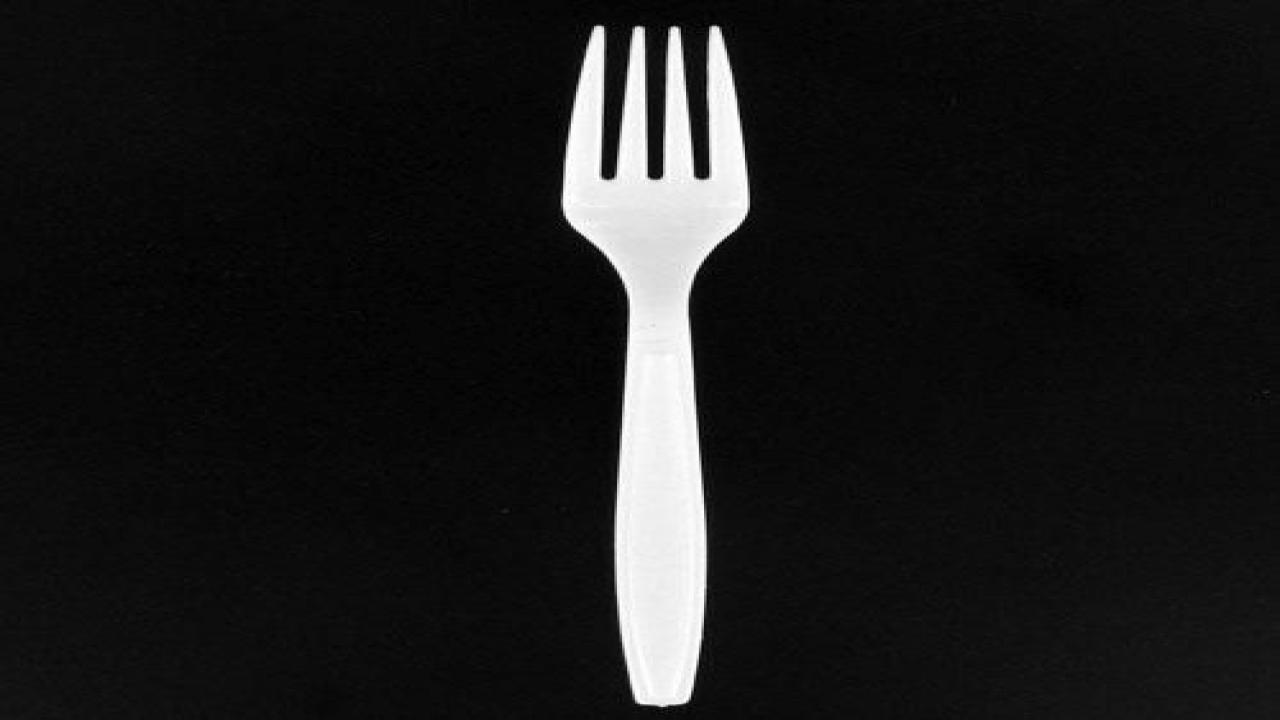fork: (558, 23, 750, 707)
